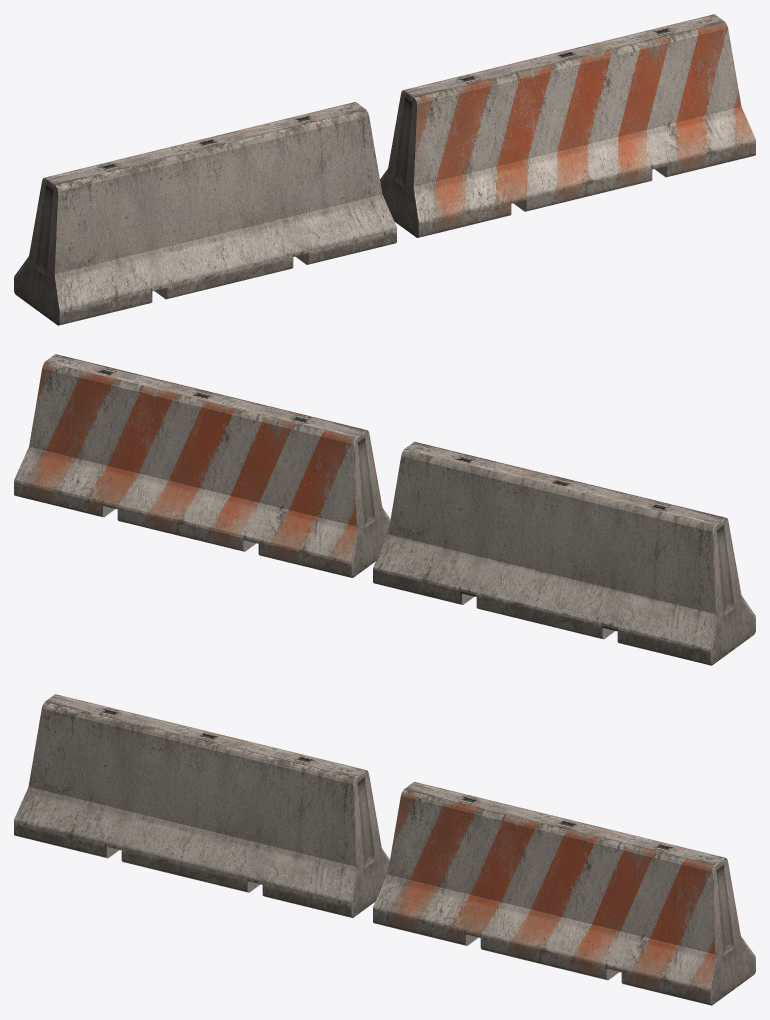
Rendered from Jerseybarrier.fbx.
3 renders of one model, top to bottom at view 1: azimuth 30°, elevation 25°; view 2: azimuth 150°, elevation 25°; view 3: azimuth 330°, elevation 25°, orthographic.
Visible parts, largest first — view 1: Jersey barrier 1, Jersey barrier 2; view 2: Jersey barrier 1, Jersey barrier 2; view 3: Jersey barrier 2, Jersey barrier 1.
Part boxes in pixels (x1,y1,x2,y2): Jersey barrier 1: [14, 102, 396, 325]; Jersey barrier 2: [380, 14, 755, 237]; Jersey barrier 1: [373, 442, 755, 665]; Jersey barrier 2: [14, 354, 390, 577]; Jersey barrier 2: [373, 782, 755, 1005]; Jersey barrier 1: [14, 694, 389, 917].
Bounding box in the file's own units: 4592 × 791 × 522.
1 material, 1 textured.
